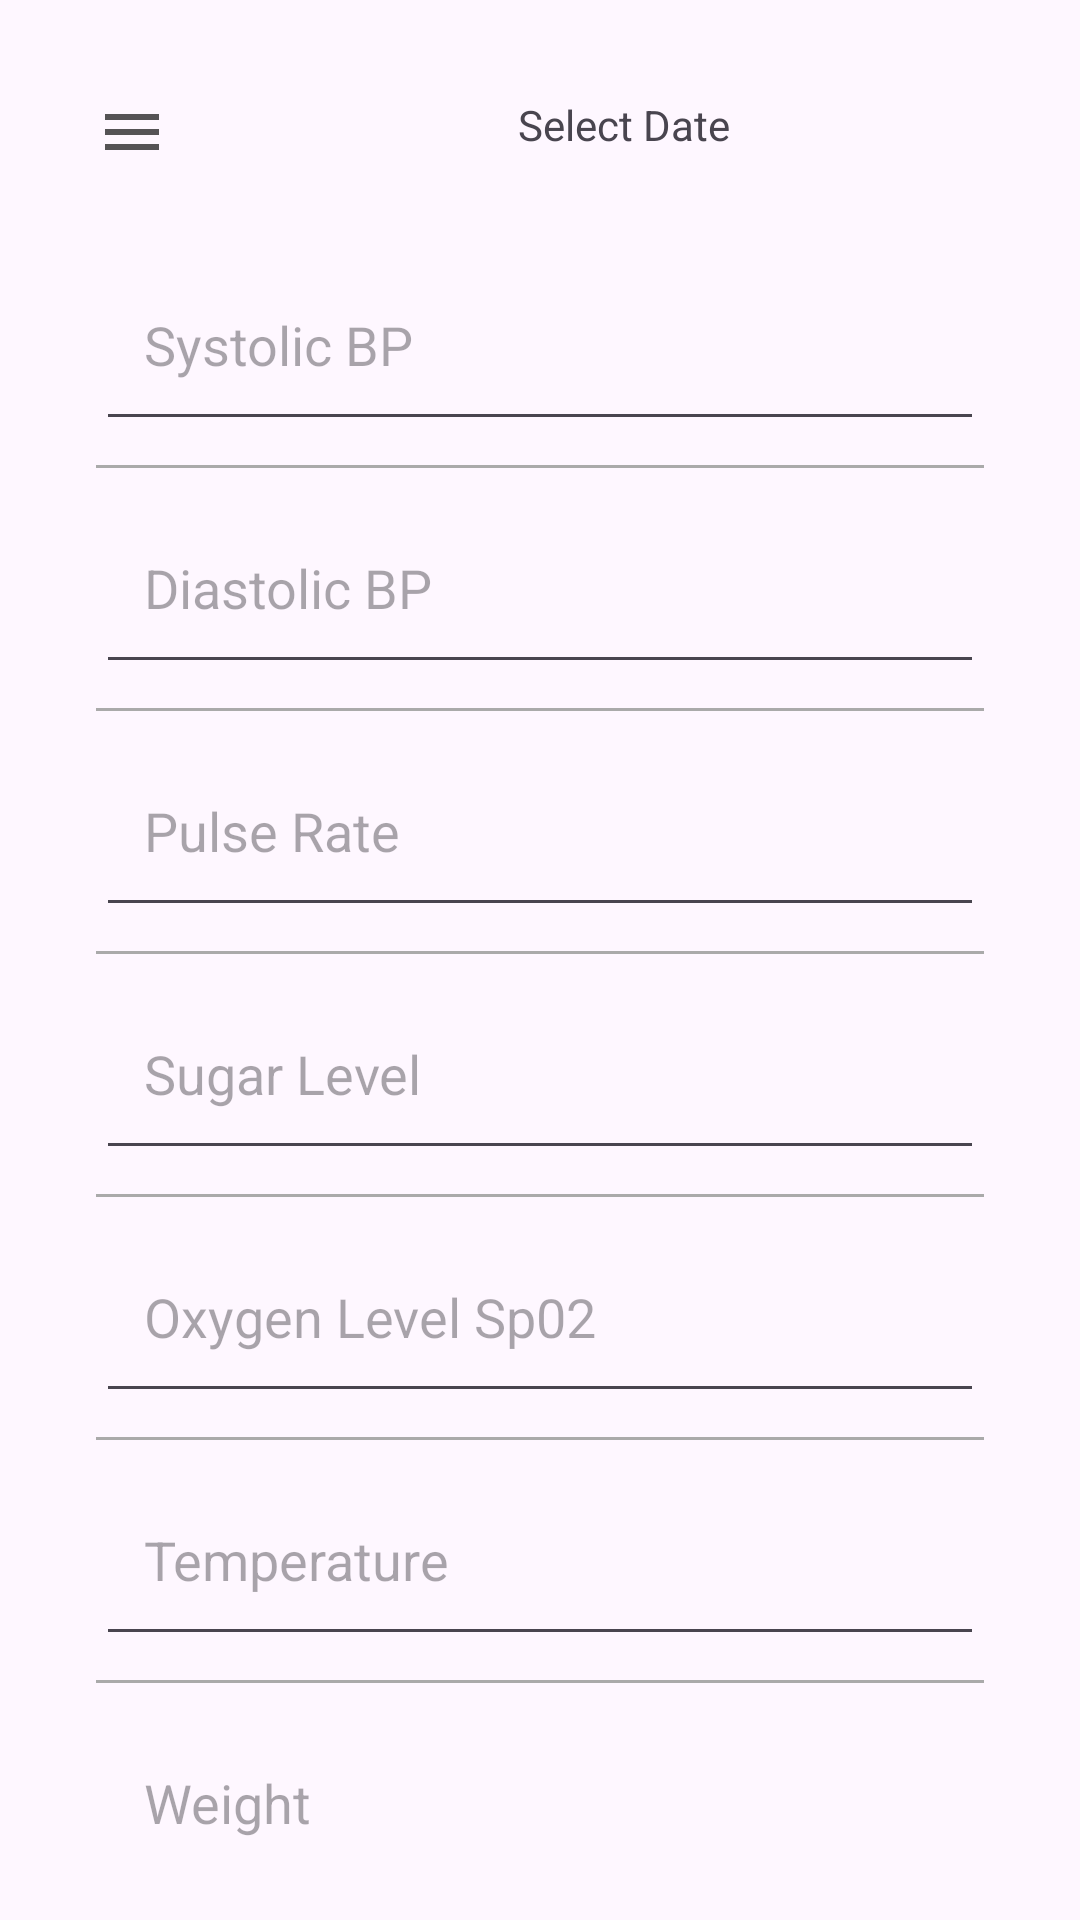

Icon bounding boxes for this 1080 x 1920 phone screenshot, format rect(x1, y1, x2, y2):
Open Side Menu: rect(105, 114, 159, 150)
